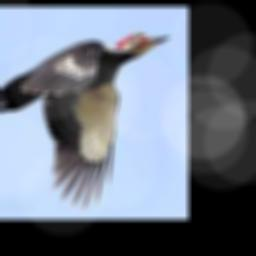Woodpecker: (0, 32, 171, 210)
